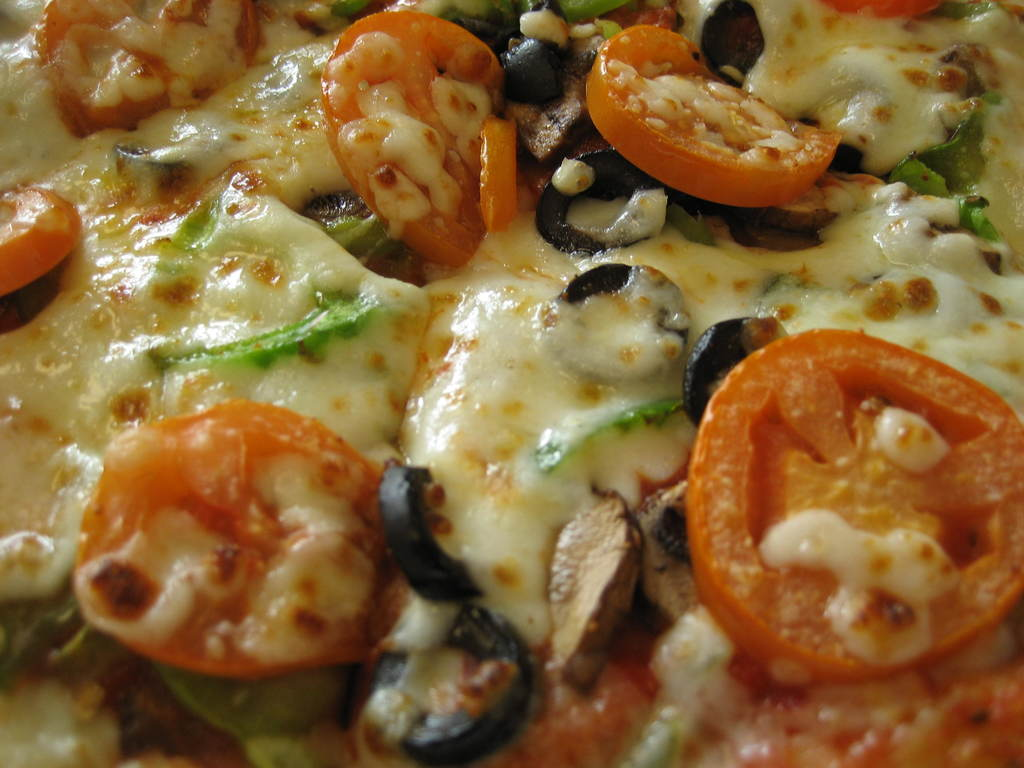Pizza: (0, 0, 1023, 760)
